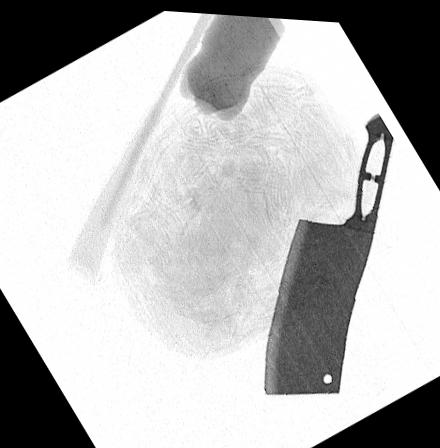Knife: (262, 106, 394, 392)
